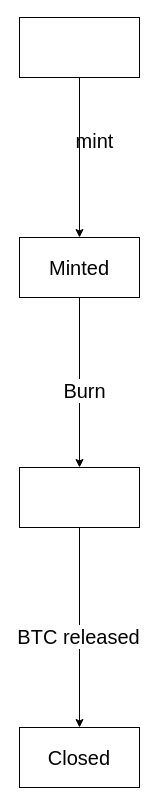
Some shapes in this 157 by 805 pixel diagram are drawn without their labels. The centre of each missing label's shape, as x and y in pixels:
Burned: (x=79, y=497)
Unminted: (x=79, y=47)
